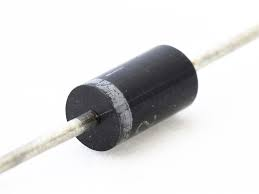diode: (48, 26, 219, 170)
